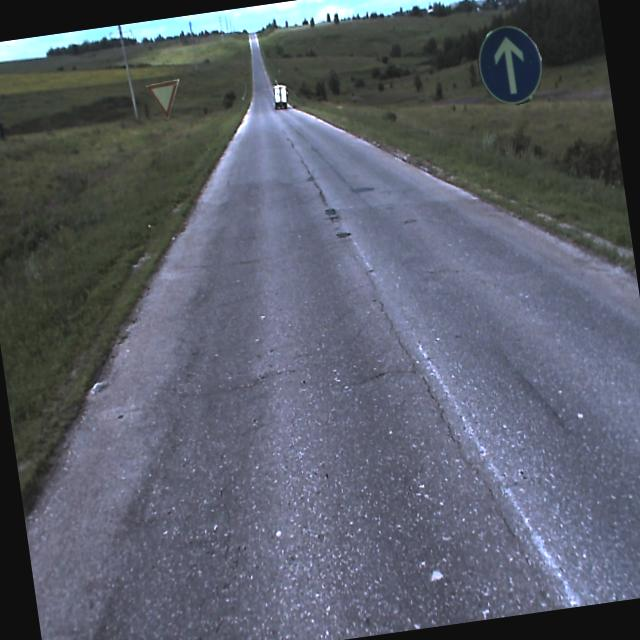road: (24, 71, 640, 640)
